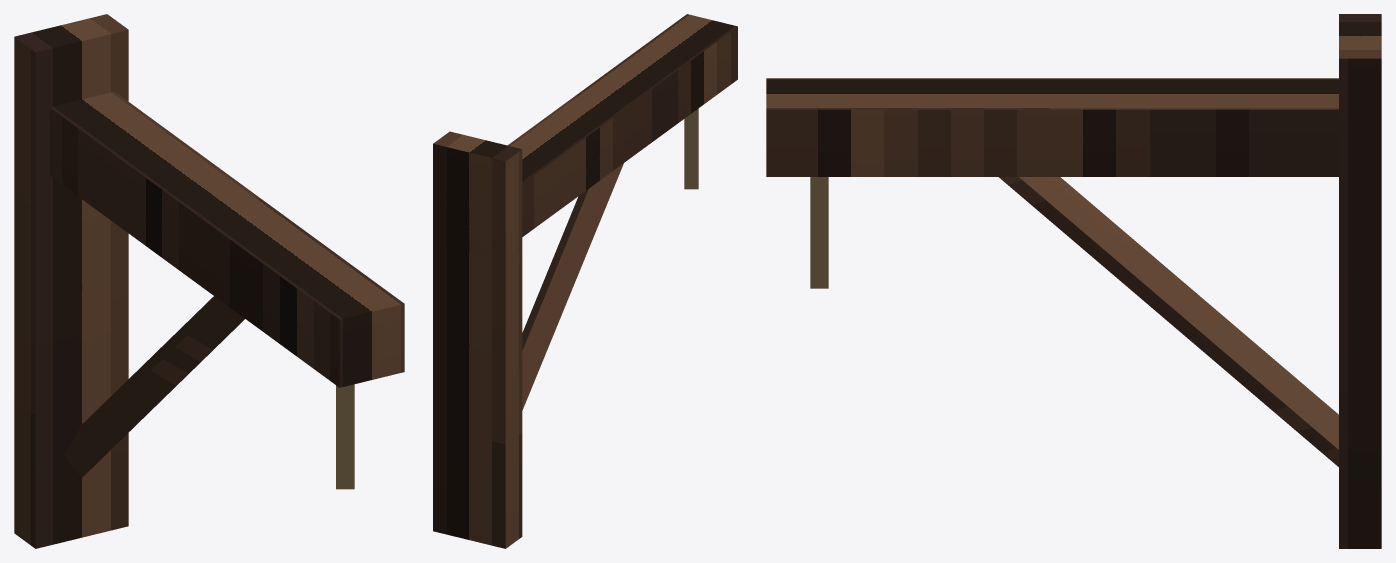
The model's file is JP_Prop_LanternBracket_A.glb.
3 views of the same model, side by side, from view 1: azimuth 30°, elevation 25°; view 2: azimuth 150°, elevation 25°; view 3: azimuth 270°, elevation 25° (orthographic). The views are drawn at different scales.
Parts seen in each view (by area): view 1: JP_Prop_LanternBracket_A; view 2: JP_Prop_LanternBracket_A; view 3: JP_Prop_LanternBracket_A.
Part boxes in pixels (left/top/right/bottom): JP_Prop_LanternBracket_A: left=14, top=14, right=404, bottom=548; JP_Prop_LanternBracket_A: left=433, top=14, right=737, bottom=548; JP_Prop_LanternBracket_A: left=766, top=14, right=1381, bottom=548.
Size of the model in its own units: 0.1 by 0.51 by 0.58.
Materials: 2 (2 with a texture image).
